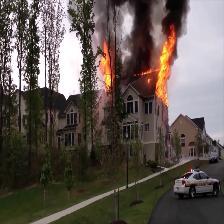fire: (148, 26, 174, 108)
smoke: (114, 1, 146, 74), (165, 0, 186, 25)
